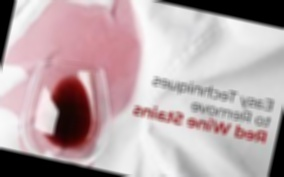wine: (3, 0, 154, 110), (0, 70, 33, 122)
